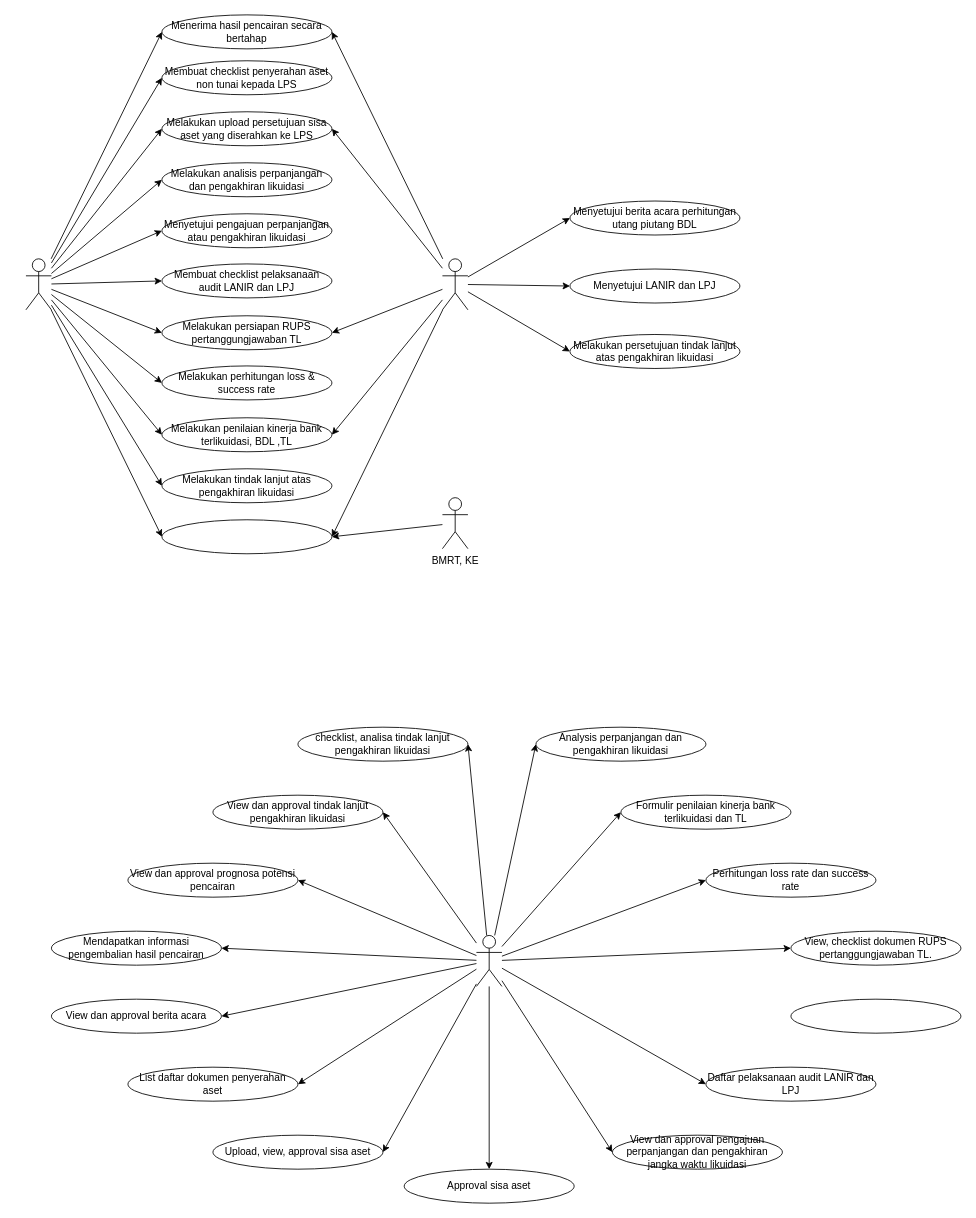
This 976x1218 diagram has some shape labels left out. The shapes that lost their labels are listed below. From the top down, each one's centre as x and y in pixels, then its label:
point (38, 284): Pelaksana
point (455, 284): Kadiv, DG, DE
point (246, 536): Melakukan persetujuan atas prognosa potensi pencairan
point (489, 960): Sistem
point (875, 1015): Approval tindak lanjut audit LANIR dan LPJ
